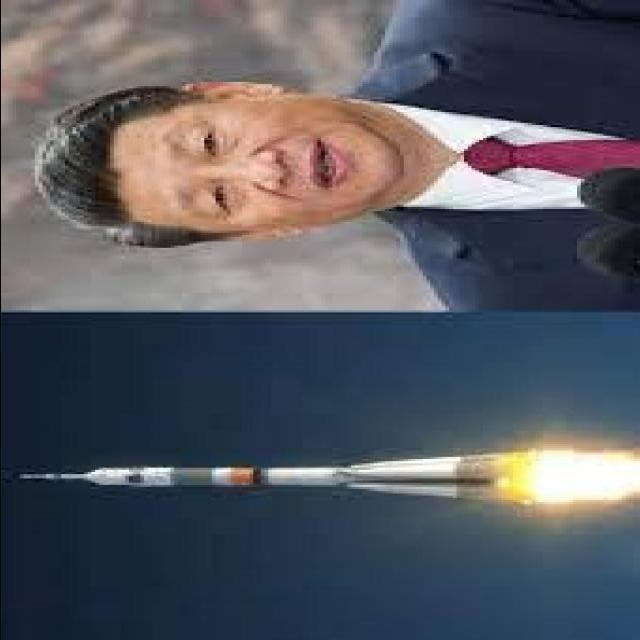missile: (17, 447, 536, 512)
